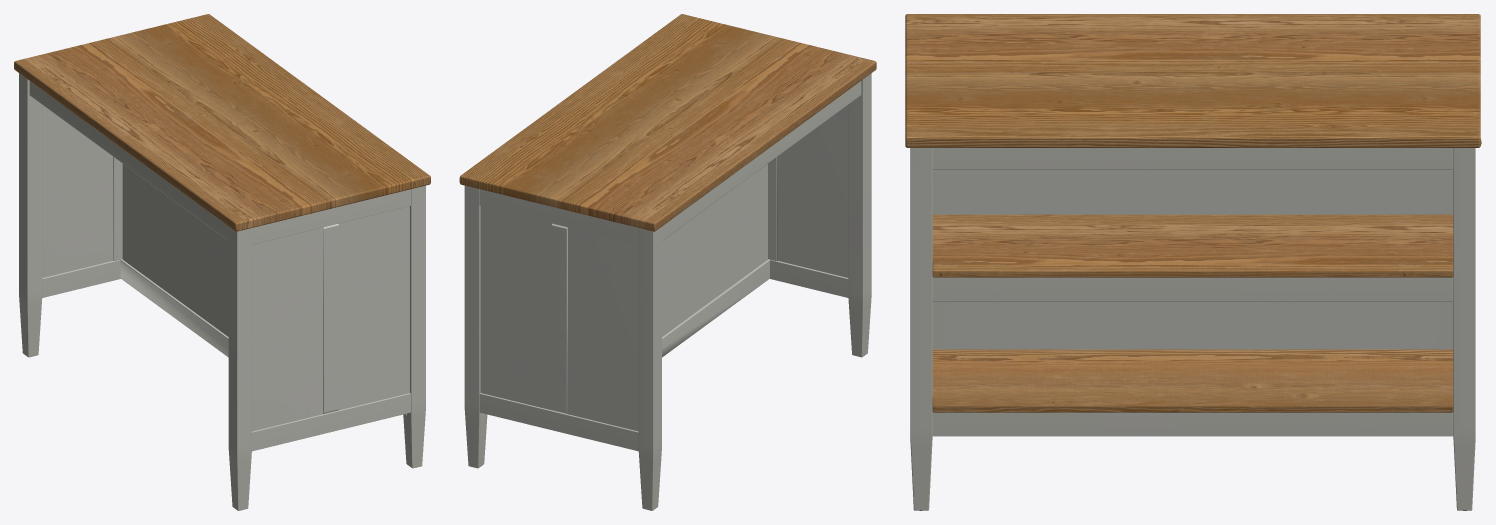
Rendered from fixture_island_a01.glb.
3 views of the same model, side by side, from view 1: azimuth 30°, elevation 25°; view 2: azimuth 150°, elevation 25°; view 3: azimuth 270°, elevation 25° (orthographic). The views are drawn at different scales.
Visible parts, largest first — view 1: sm_fixture_island_a01_01; view 2: sm_fixture_island_a01_01; view 3: sm_fixture_island_a01_01.
Part boxes in pixels (<box>): sm_fixture_island_a01_01: <box>14,14,430,510</box>; sm_fixture_island_a01_01: <box>459,14,876,510</box>; sm_fixture_island_a01_01: <box>905,14,1481,510</box>.
Bounding box in the file's own units: 0.6313 × 0.9005 × 1.24.
4 materials, 4 textured.
